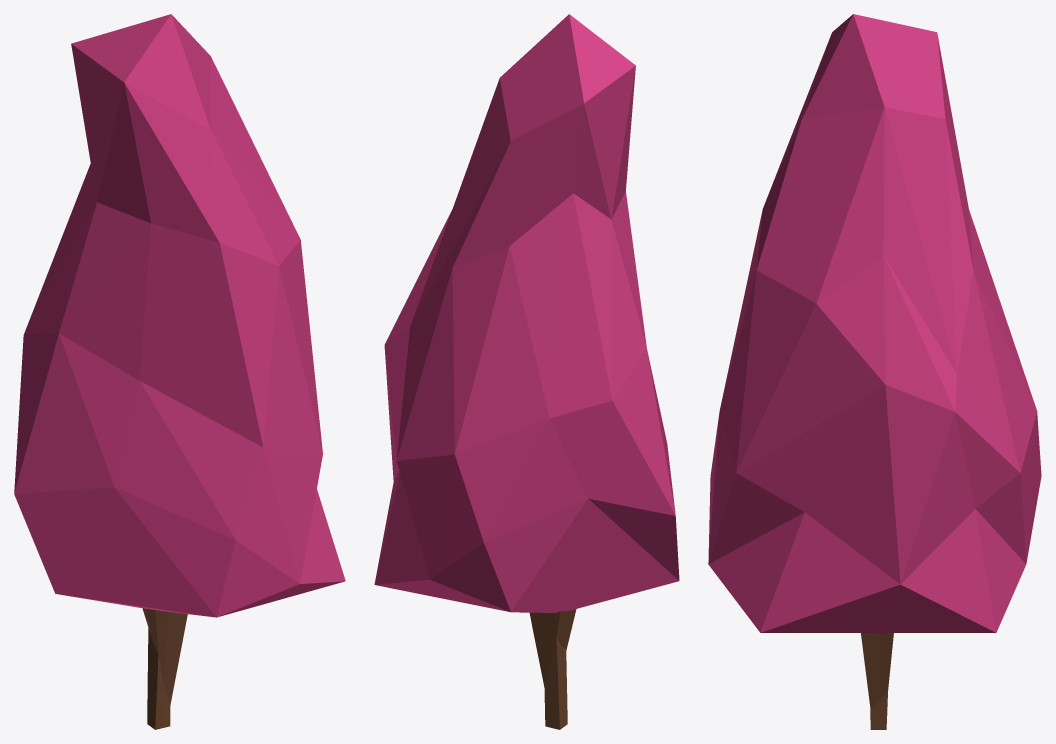
File: Tree_20_Pink.fbx
3 views of the same model, side by side, from view 1: azimuth 30°, elevation 25°; view 2: azimuth 150°, elevation 25°; view 3: azimuth 270°, elevation 25° (orthographic). The views are drawn at different scales.
Visible parts, largest first — view 1: Tree_20_Pink_Part_1, Tree_20_Pink_Part_2; view 2: Tree_20_Pink_Part_1, Tree_20_Pink_Part_2; view 3: Tree_20_Pink_Part_1, Tree_20_Pink_Part_2.
Boxes of the visible parts, <box> form: Tree_20_Pink_Part_1: <box>14,14,345,617</box>; Tree_20_Pink_Part_2: <box>142,608,187,729</box>; Tree_20_Pink_Part_1: <box>374,14,679,612</box>; Tree_20_Pink_Part_2: <box>529,609,576,729</box>; Tree_20_Pink_Part_1: <box>708,14,1041,632</box>; Tree_20_Pink_Part_2: <box>861,633,893,729</box>.
Size of the model in its own units: 332 by 789 by 334.
